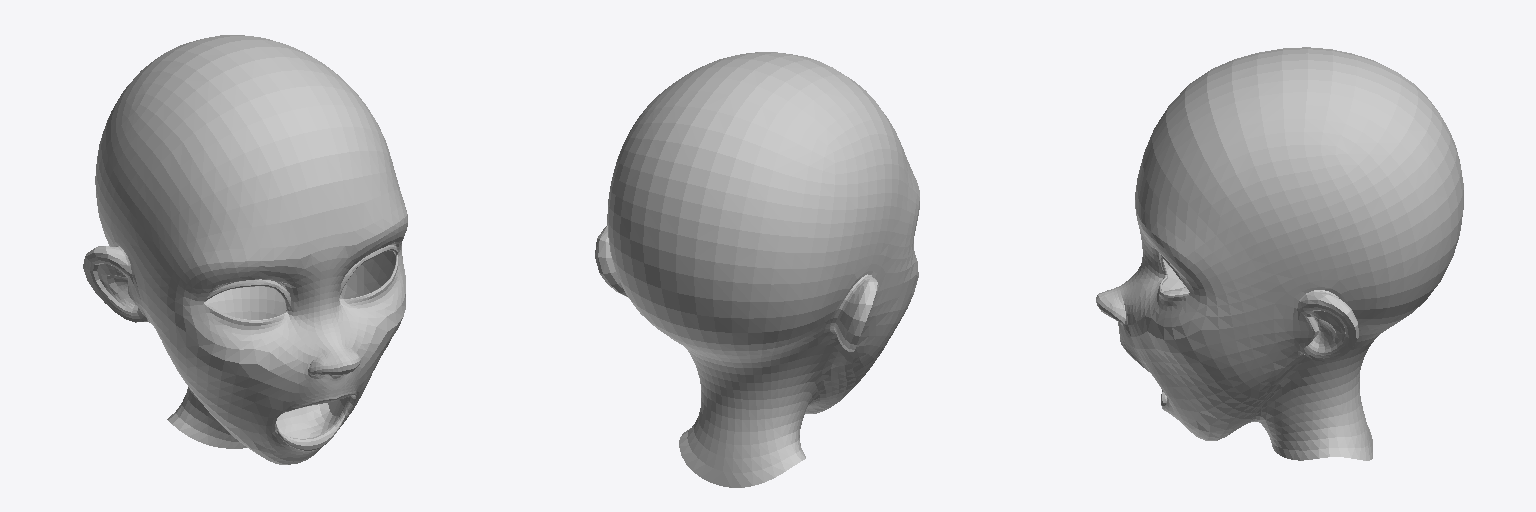
The model's file is Mery_jaw_open.obj.
3 renders of one model, left to right at view 1: azimuth 30°, elevation 25°; view 2: azimuth 150°, elevation 25°; view 3: azimuth 270°, elevation 25°, orthographic.
Size of the model in its own units: 23.75 by 32.31 by 27.53.